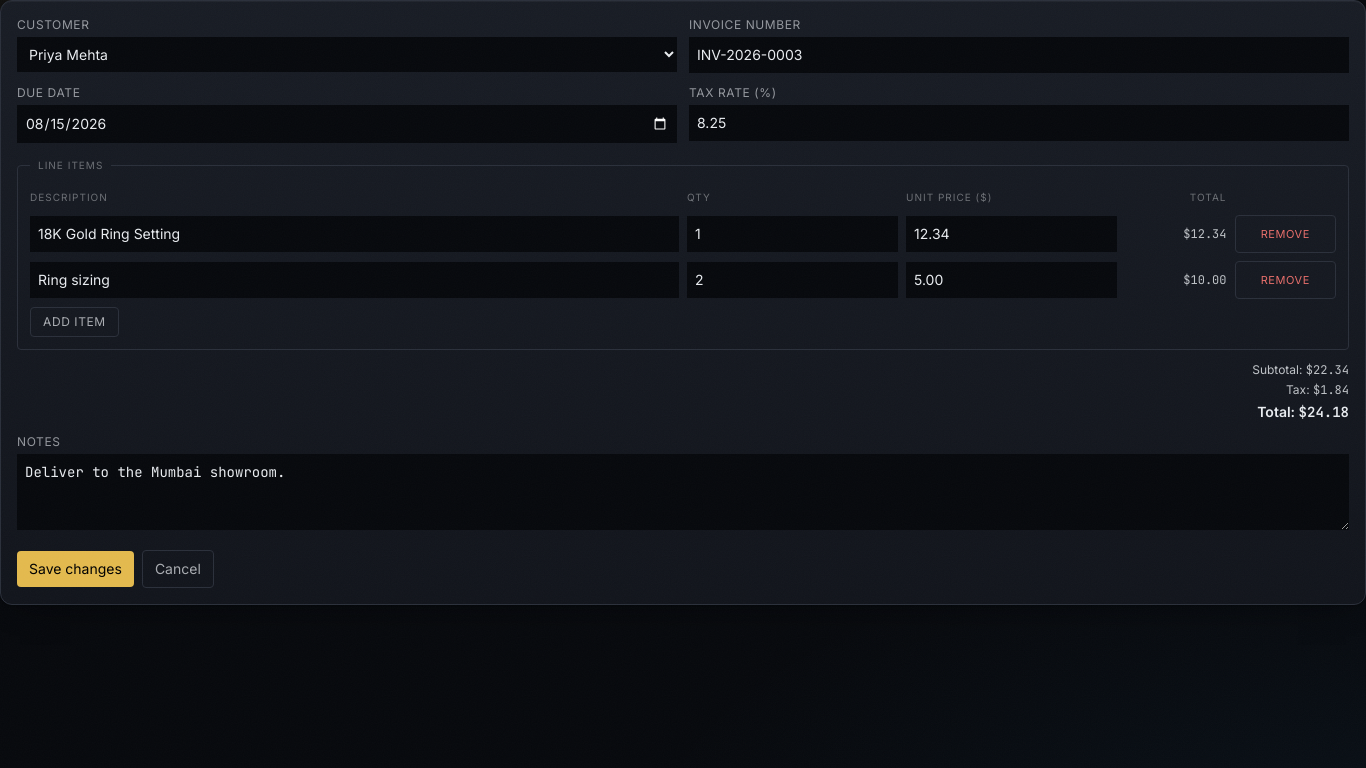
InvoiceForm — edit mode › renders the action's error message under role=alert on update failure
Click the button "Save changes" at (75, 569), box 17,551 -> 134,587
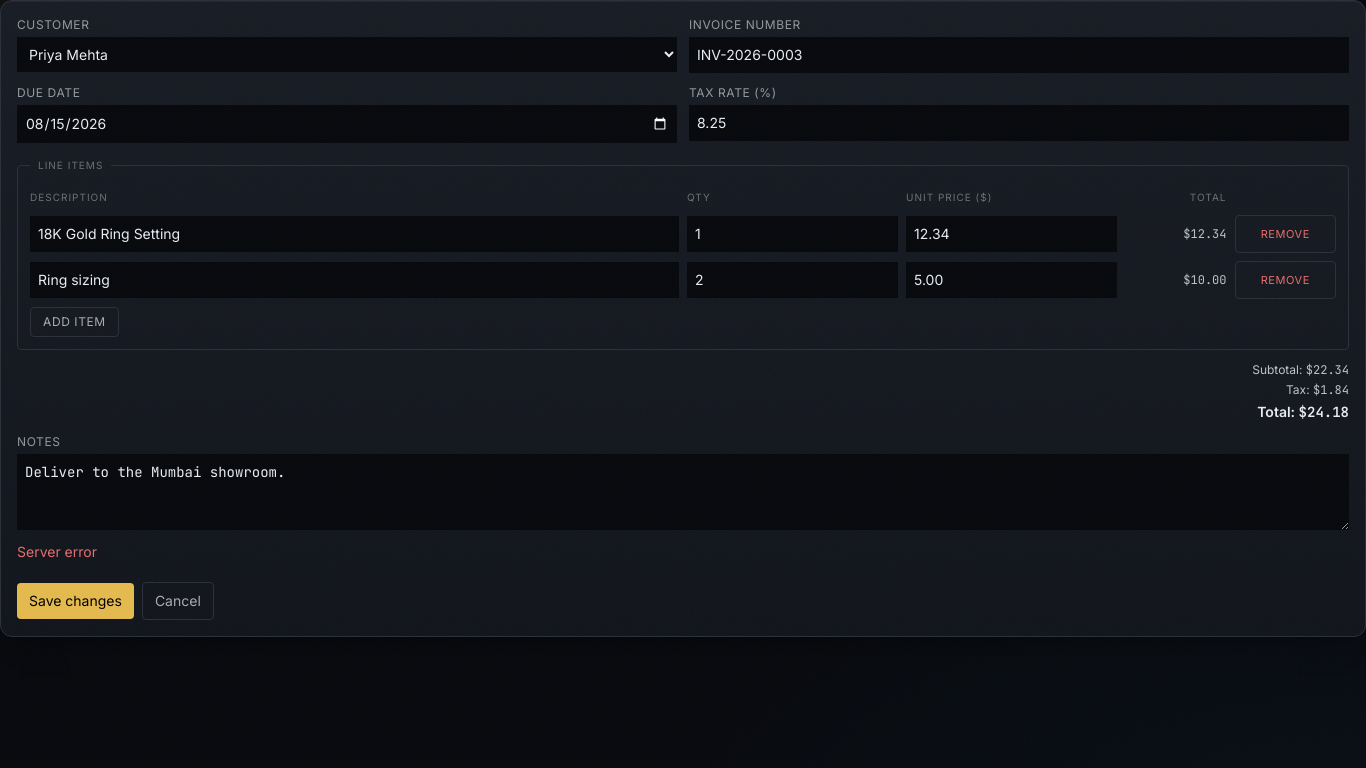
Check: the message reads "Server error", box 17,543 -> 97,560
